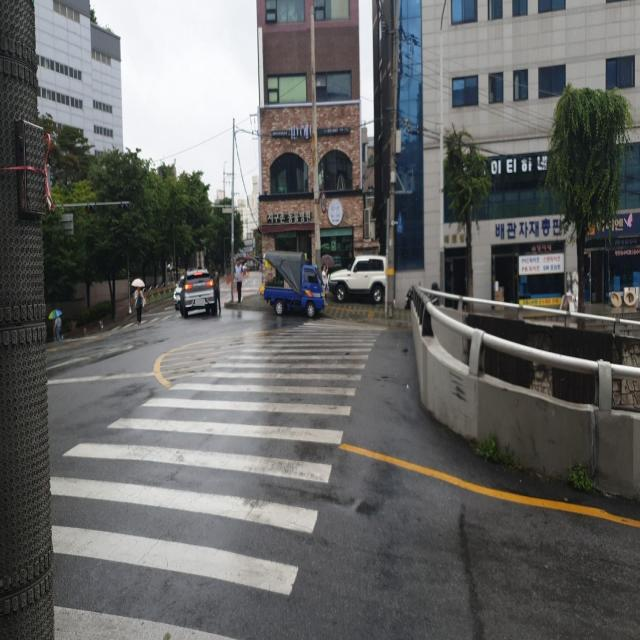횡단보도: (51, 323, 388, 639)
